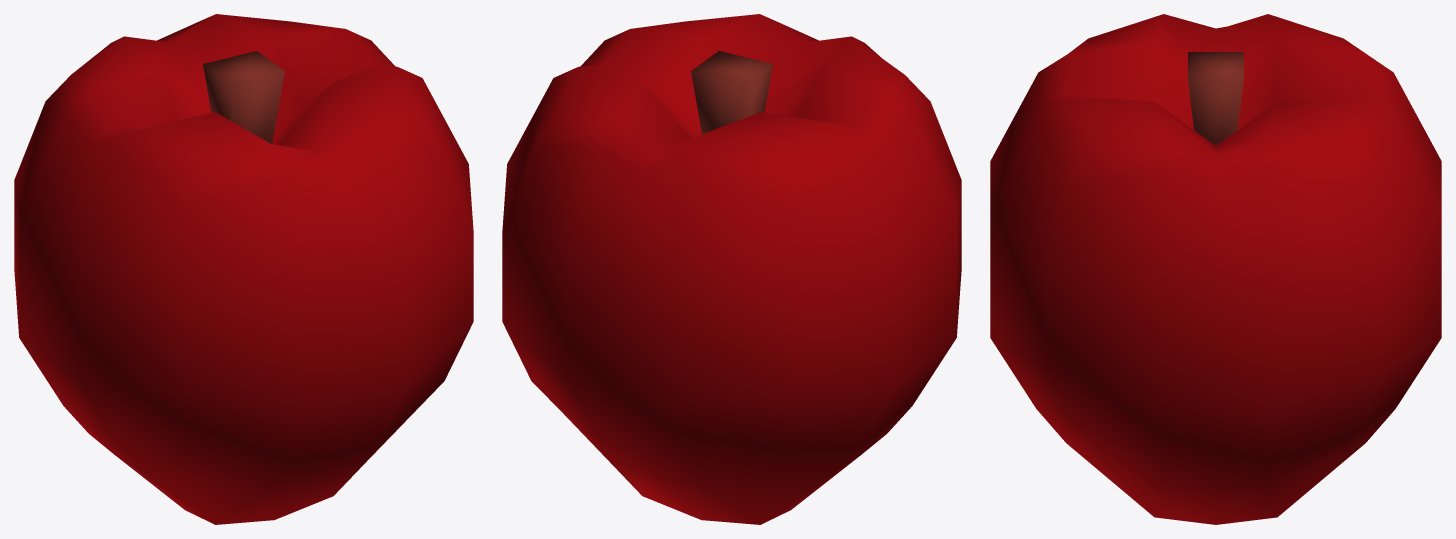
The model's file is Apple.fbx.
3 renders of one model, left to right at view 1: azimuth 30°, elevation 25°; view 2: azimuth 150°, elevation 25°; view 3: azimuth 270°, elevation 25°, orthographic.
Parts seen in each view (by area): view 1: Apple; view 2: Apple; view 3: Apple.
Boxes of the visible parts, x1=… form: Apple: x1=14, y1=14, x2=473, y2=524; Apple: x1=502, y1=14, x2=961, y2=524; Apple: x1=990, y1=14, x2=1441, y2=524.
Size of the model in its own units: 16 by 17.3 by 16.
